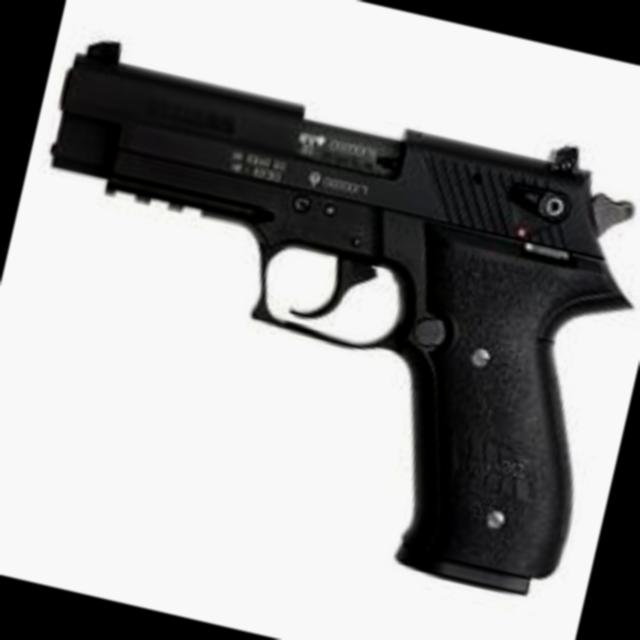semi automatic: (0, 15, 640, 627)
